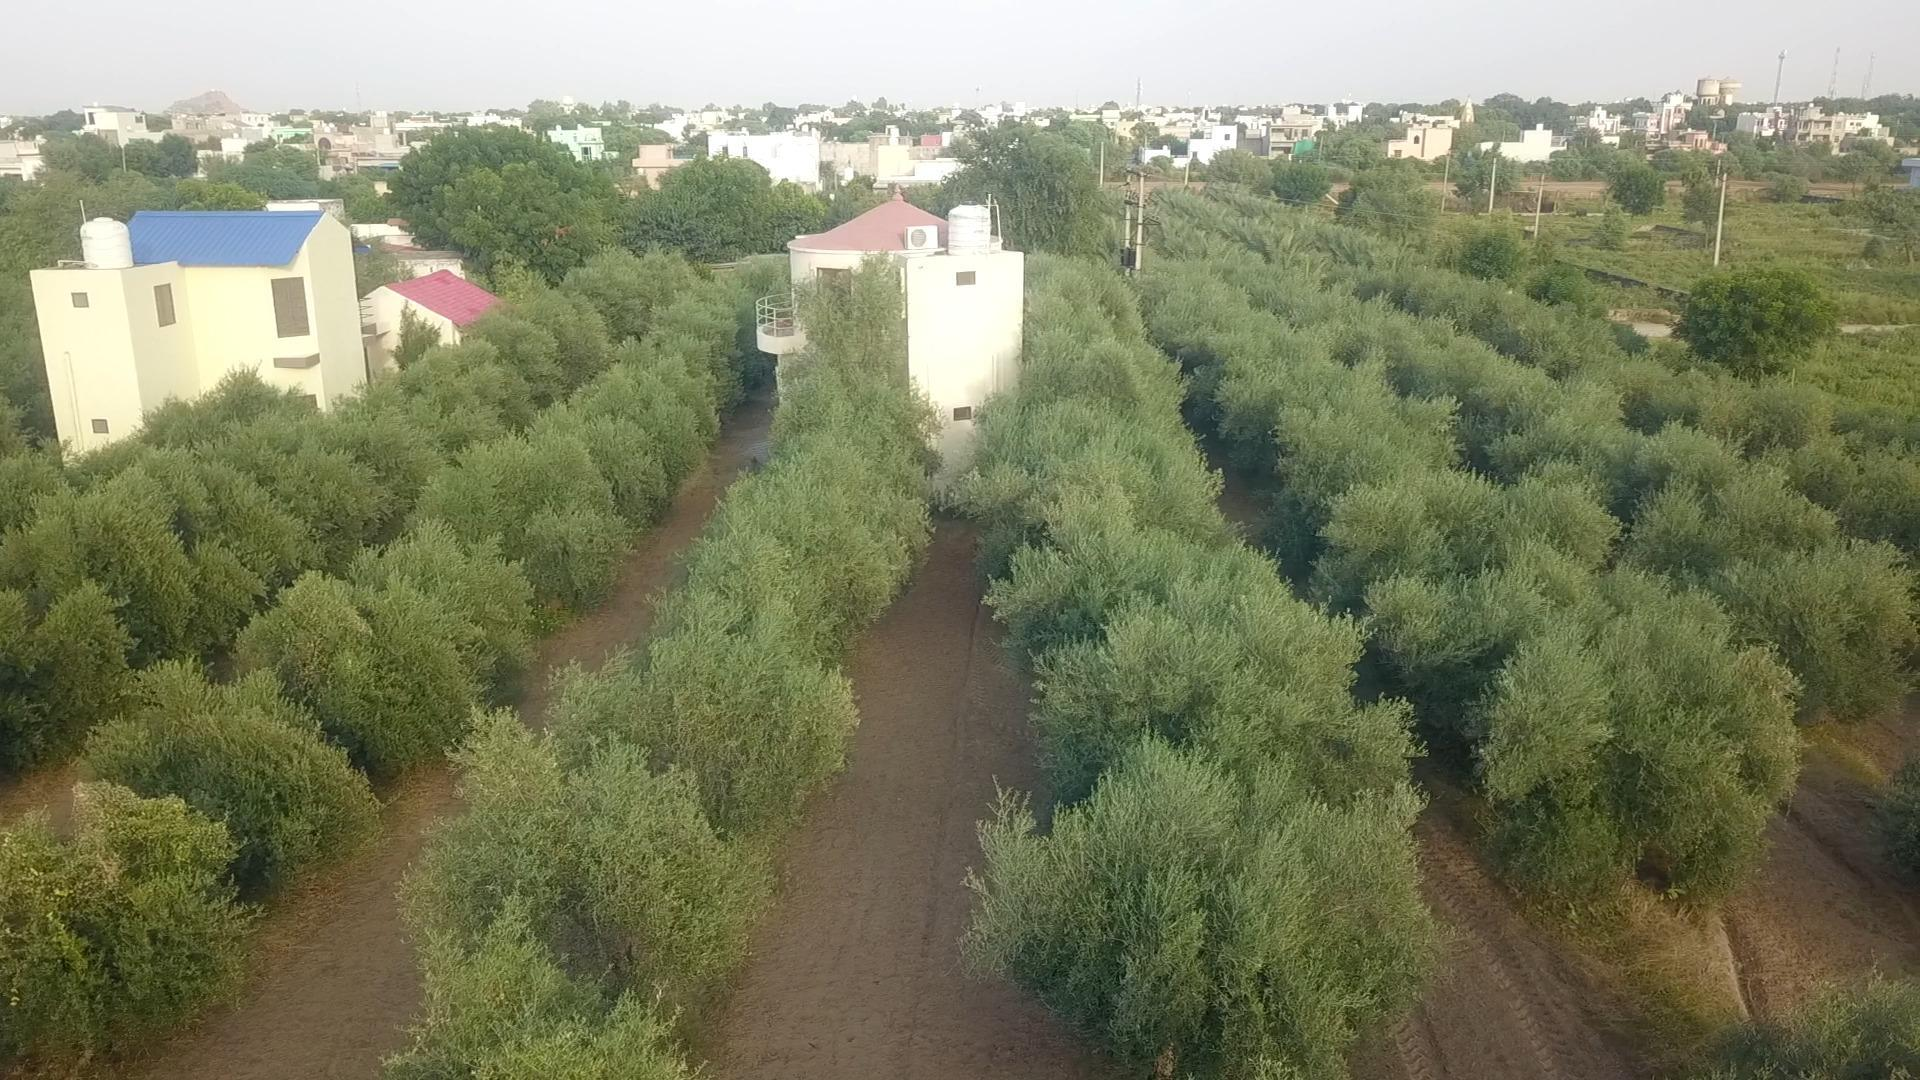canopy: (0, 285, 752, 1055), (393, 272, 940, 1077), (1139, 261, 1796, 890), (939, 258, 1435, 1075), (0, 290, 615, 771)
road: (705, 524, 1112, 1079), (140, 723, 534, 1079), (520, 407, 767, 733), (1357, 814, 1650, 1079), (1675, 789, 1919, 1018)
